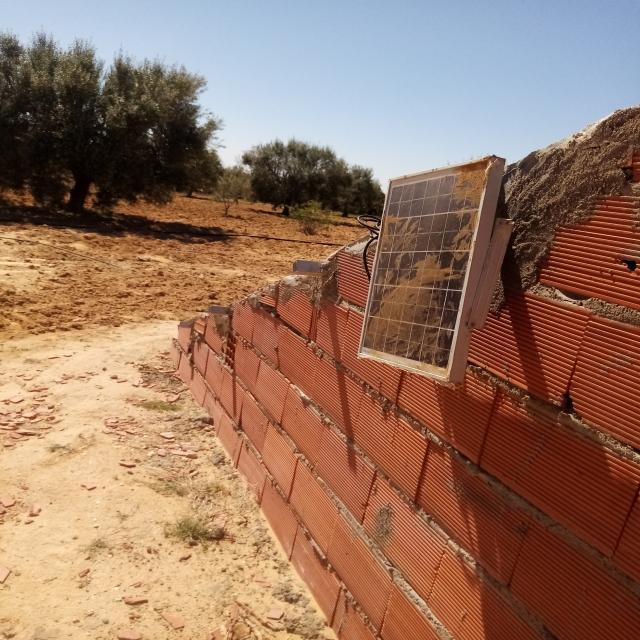faulty: (358, 158, 491, 380)
